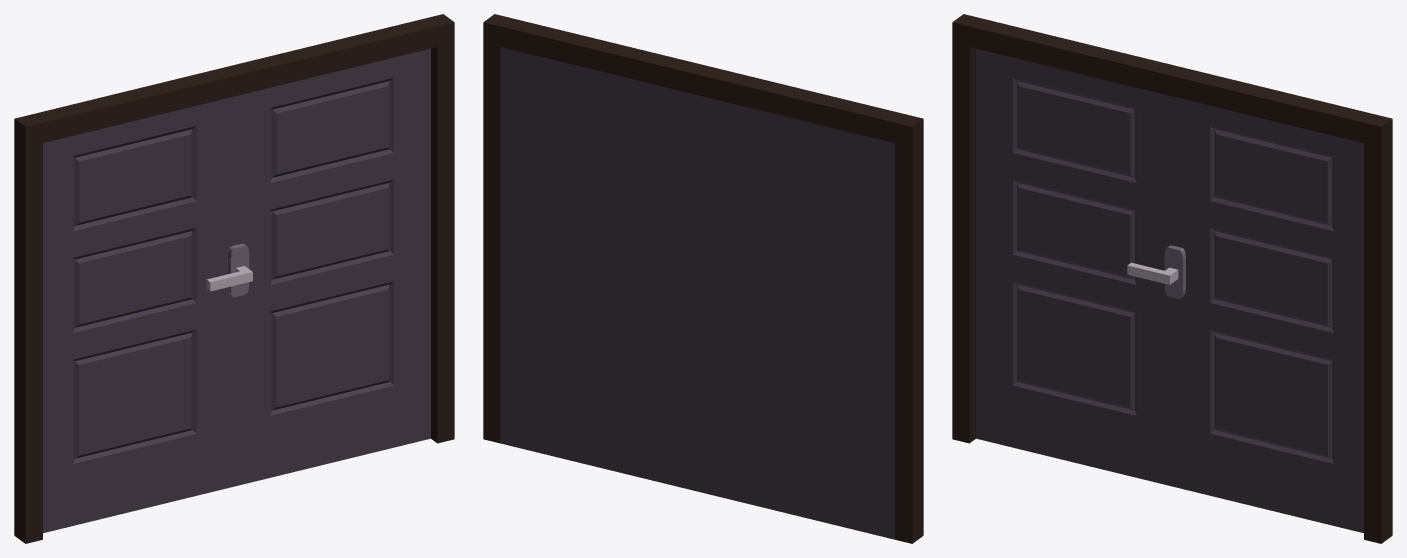
The model's file is door.glb.
The picture shows the model from 3 angles, left to right: view 1: azimuth 30°, elevation 25°; view 2: azimuth 150°, elevation 25°; view 3: azimuth 330°, elevation 25°; orthographic projection.
Visible parts, largest first — view 1: Door.003, Plane.001, Door.004; view 2: Door.003; view 3: Door.003, Plane.001, Door.004.
Boxes of the visible parts, x1,y1,x2,y2 form: Door.003: [14, 14, 454, 543]; Plane.001: [228, 243, 249, 297]; Door.004: [206, 266, 252, 291]; Door.003: [483, 14, 923, 543]; Door.003: [952, 14, 1392, 543]; Plane.001: [1164, 245, 1185, 298]; Door.004: [1127, 262, 1178, 284].
Bounding box in the file's own units: 7.4 × 6.87 × 0.4838.
Materials: 1 (1 with a texture image).
